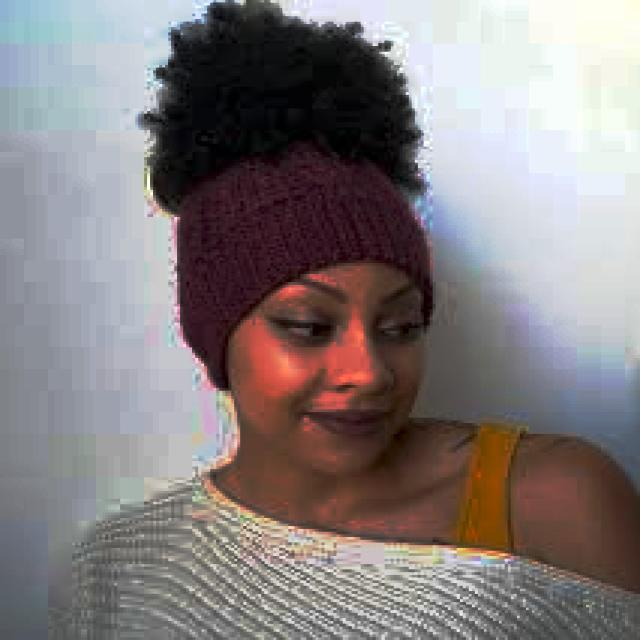TOPI: (174, 114, 439, 385)
